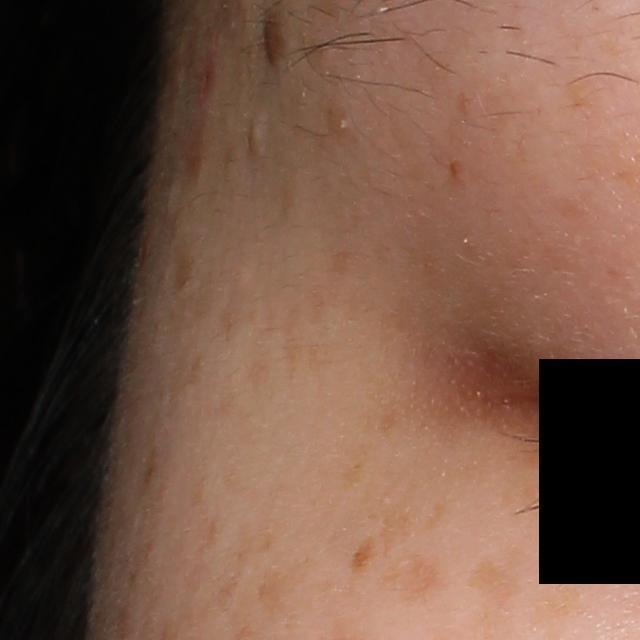comedo: (329, 112, 354, 137)
melasma: (186, 510, 229, 589), (376, 557, 451, 599), (467, 560, 529, 602), (255, 561, 307, 608), (536, 581, 584, 621), (339, 441, 375, 490), (344, 537, 380, 575), (173, 246, 202, 293), (374, 402, 405, 434), (420, 496, 445, 532), (446, 158, 468, 185)
nevus: (260, 6, 291, 67)
